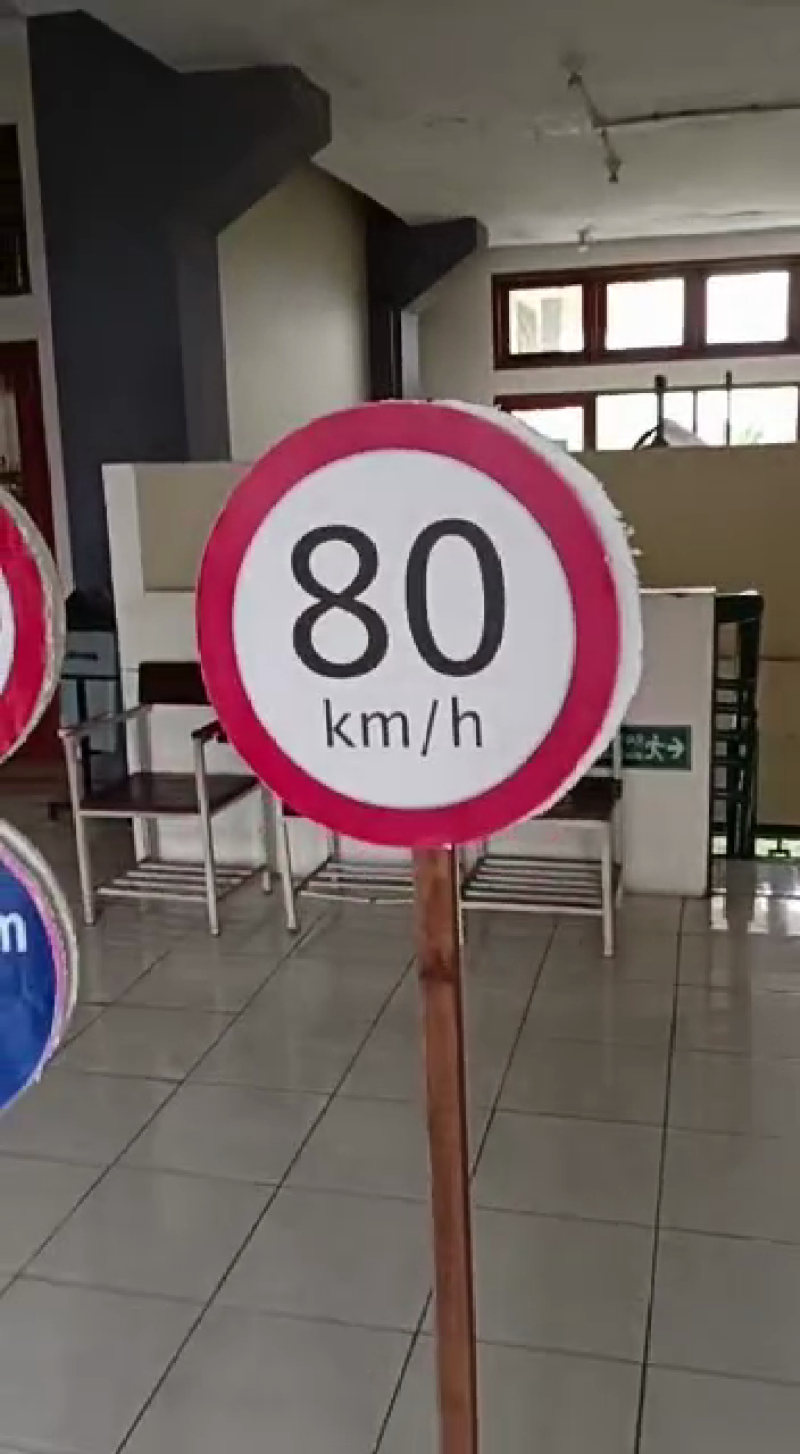batas maksimal 80kmperjam: (182, 387, 647, 858)
